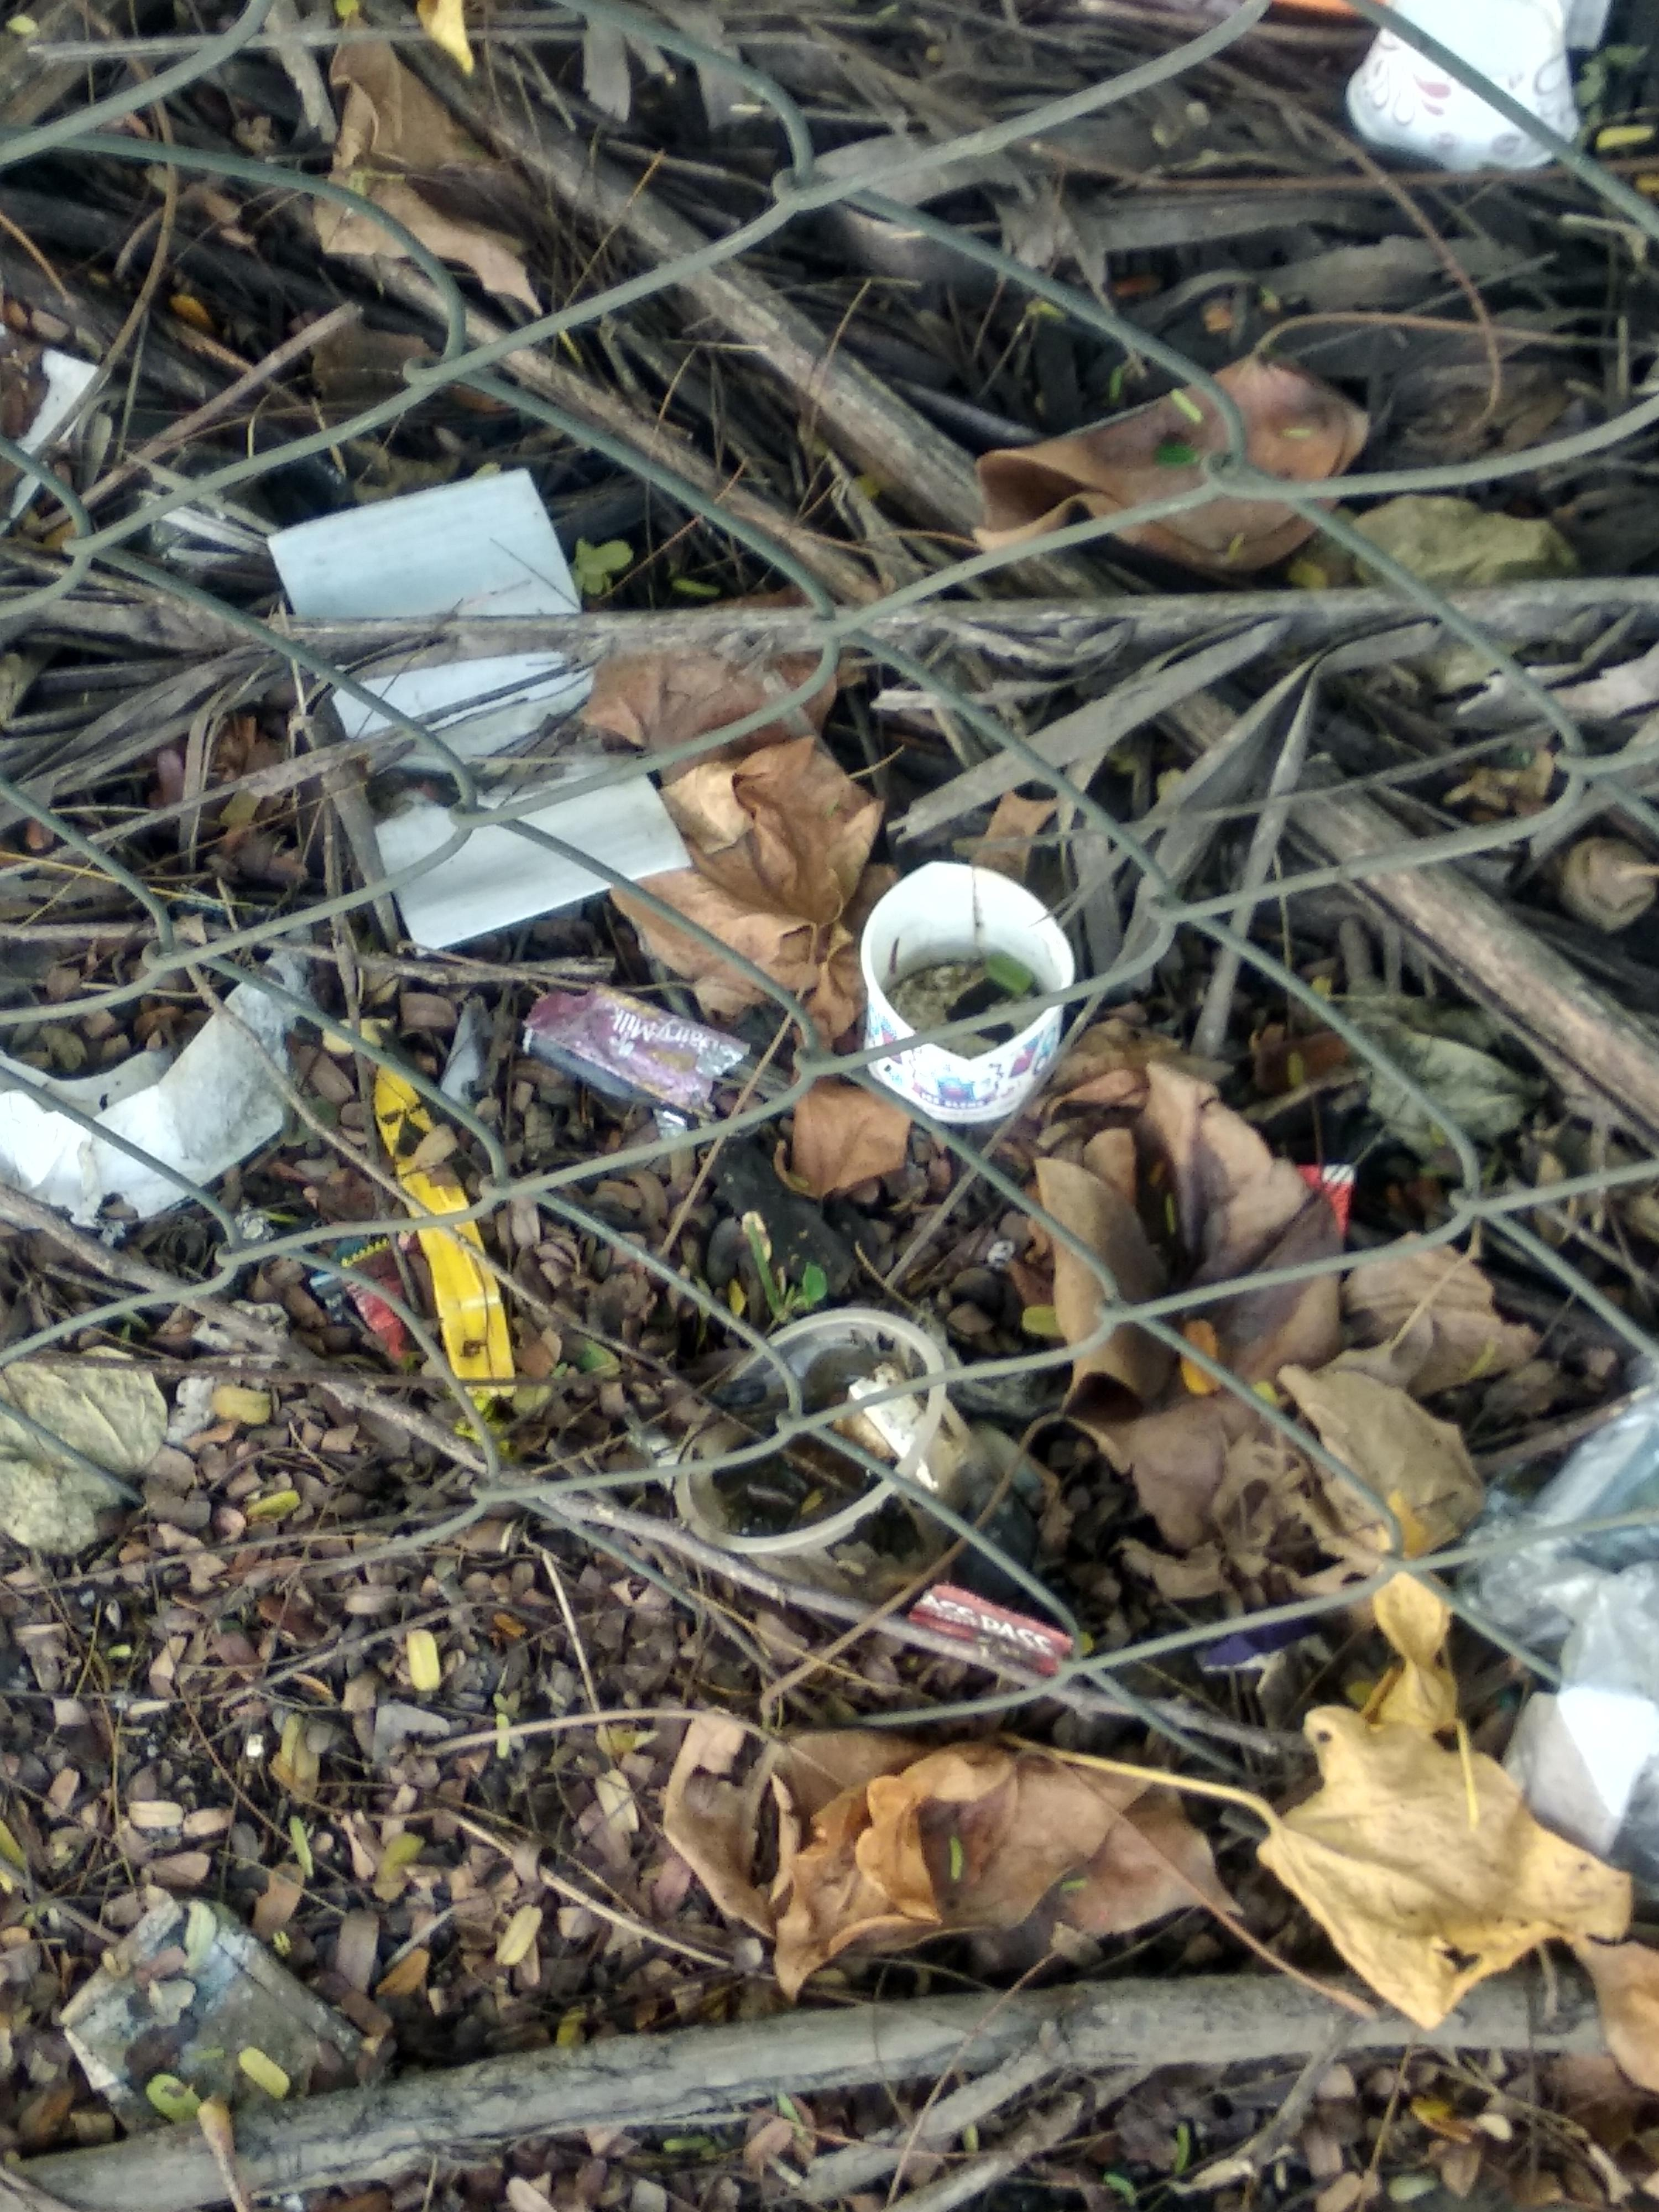trash: (21, 326, 1114, 1369)
